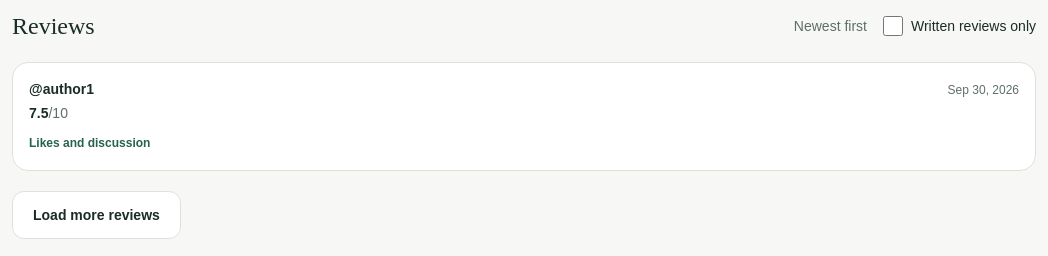
Scenario: <ReviewList> › switches to written reviews only, starting from the first page
Click the checkbox labelled "Written reviews only".
click(893, 26)  # box [883, 16, 903, 36]
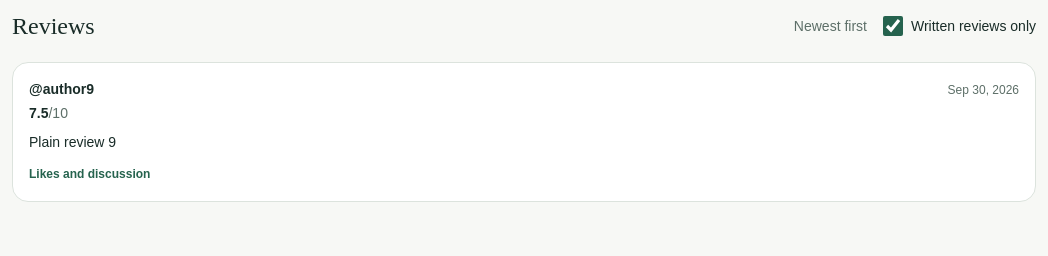
Check: the text "Plain review 9" is shown, box [29, 134, 116, 150]
